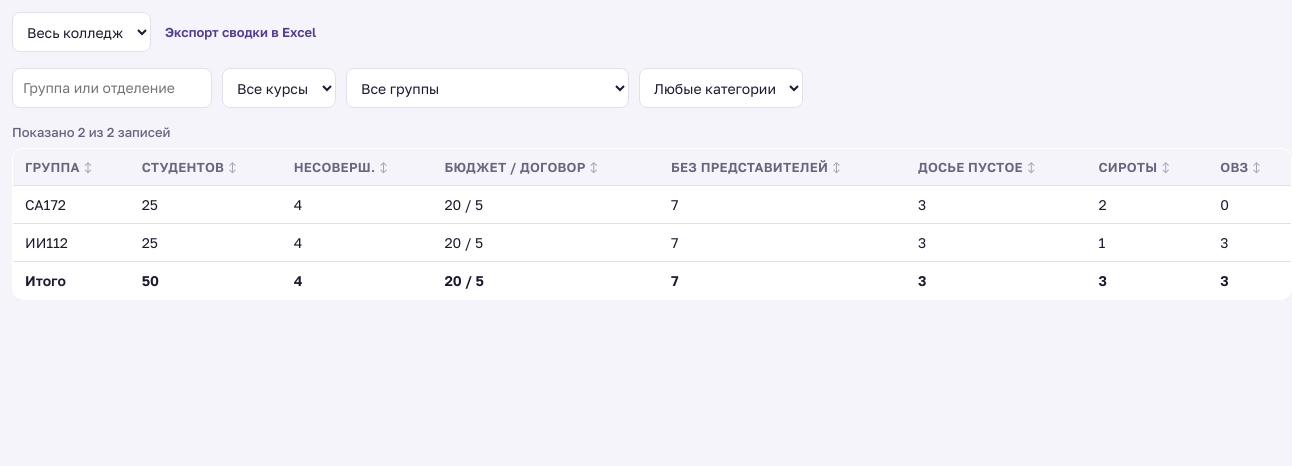
Test case: PassportPage — паспорт группы › клик по строке открывает паспорт со списками по категориям
This screenshot has width=1292, height=466.
What coordinates should you click on to do the following:
click the cell "СА172"
I would click on:
 (71, 204)
Its box is [12, 186, 130, 224].
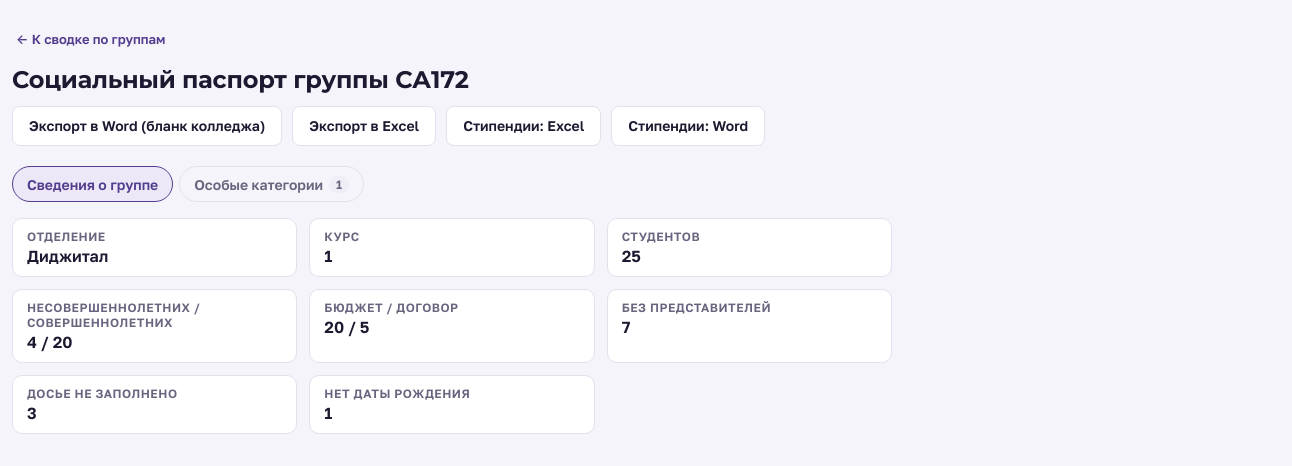
Expected: the heading "Социальный паспорт группы СА172" is shown, [12, 65, 469, 94]
What coordinates should you click on to do the following:
click the tab "Особые категории 1"
I would click on:
 (272, 184)
Its box is [179, 166, 364, 202].
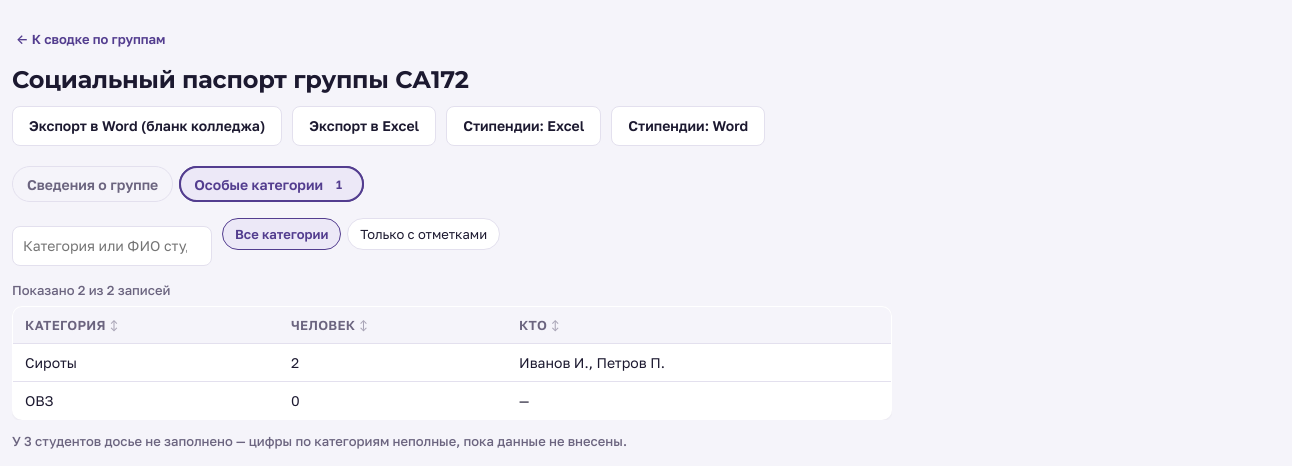
Expected: the text "Иванов И., Петров П." is shown, [507, 344, 892, 382]
Expected: the text "У 3 студентов досье не заполнено" is shown, [12, 433, 652, 449]
